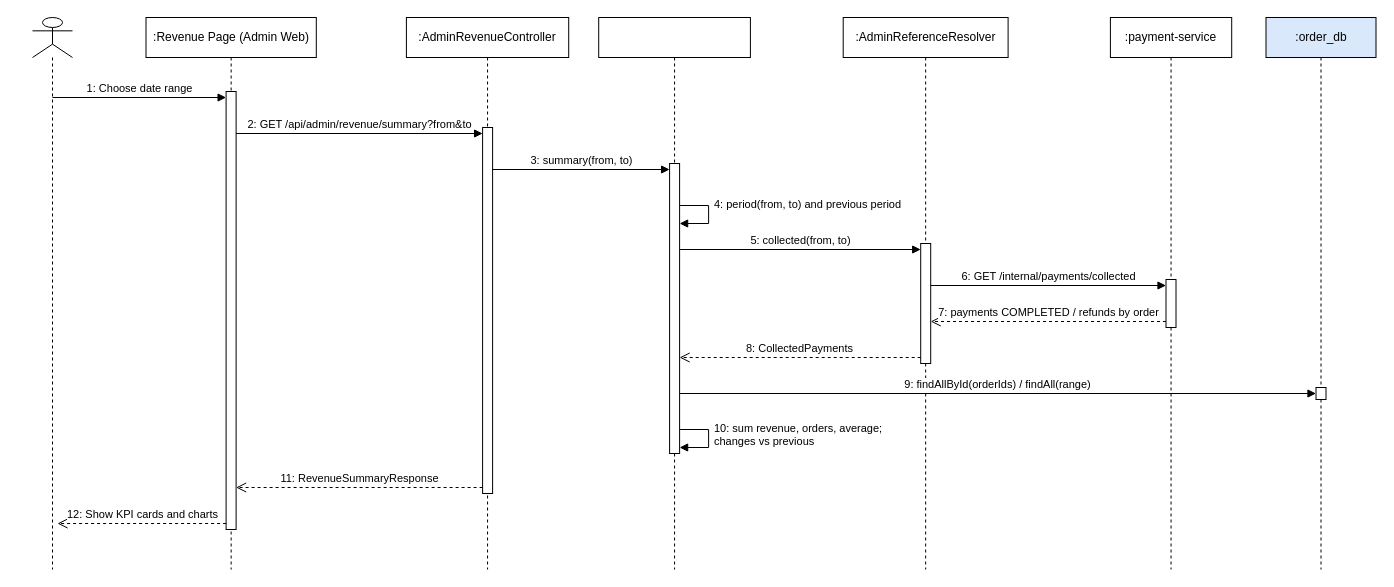
Some shapes in this 1394 by 587 pixel diagram are drawn without their labels. Here are the shapes that lost their labels. From the top down, the box of each, then its label:
(32, 16, 72, 570): Administrator
(598, 16, 750, 570): :RevenueReportService
